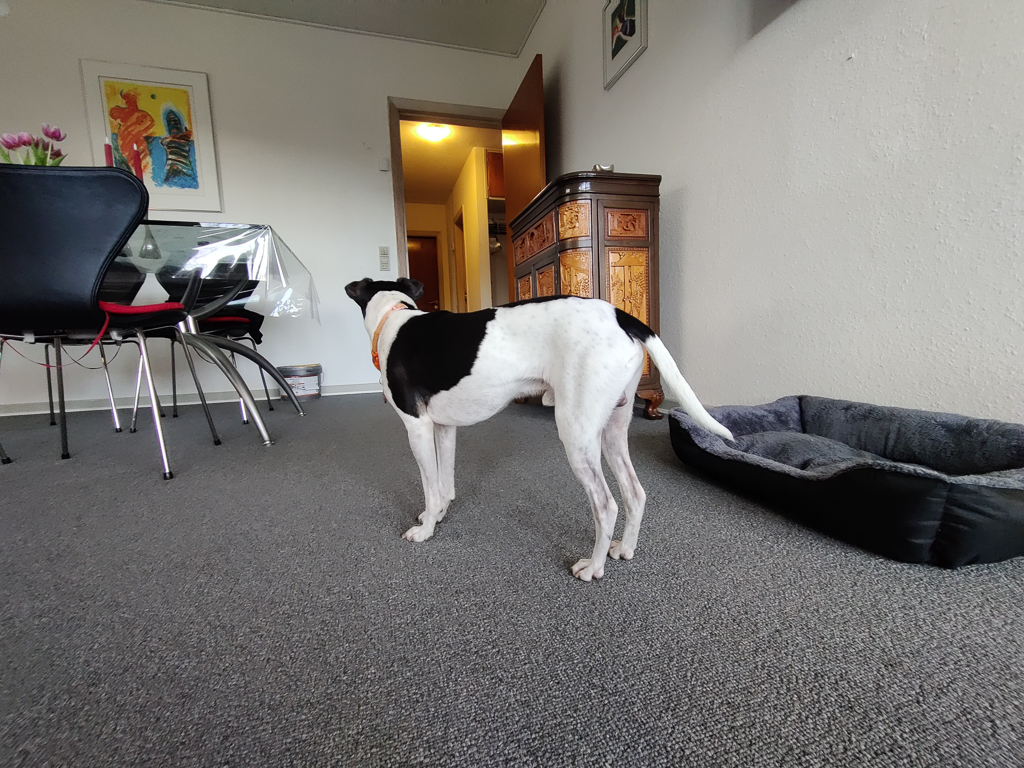Dog: (340, 274, 742, 585)
